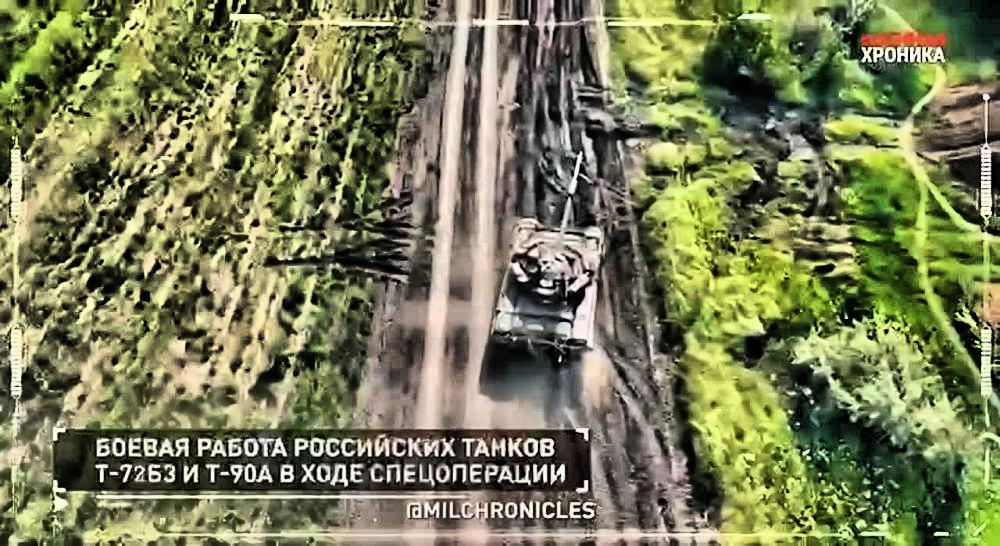military-vehicle: (491, 152, 610, 362)
